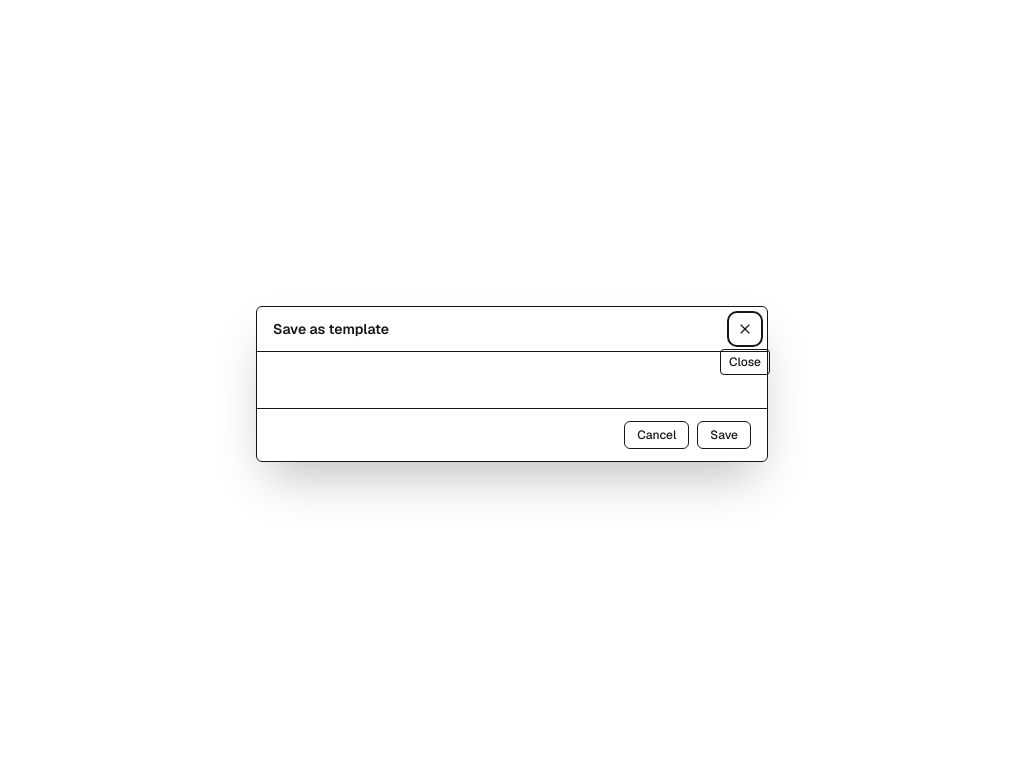
Test case: a name clash shows the message and Replace it resends with replace: true
Later steps or results of the test are not shown.
Click the button "Save" at (724, 435), box [697,421,751,449]
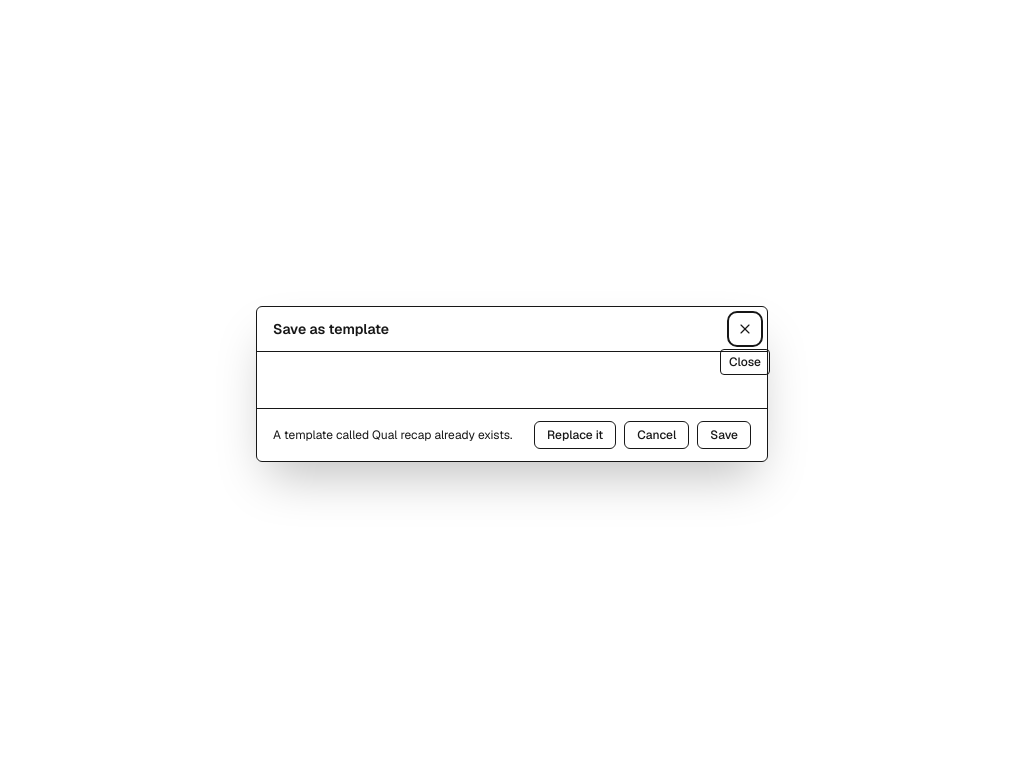
Check: the text "A template called Qual recap already exists." is shown, box [273,427,512,443]
